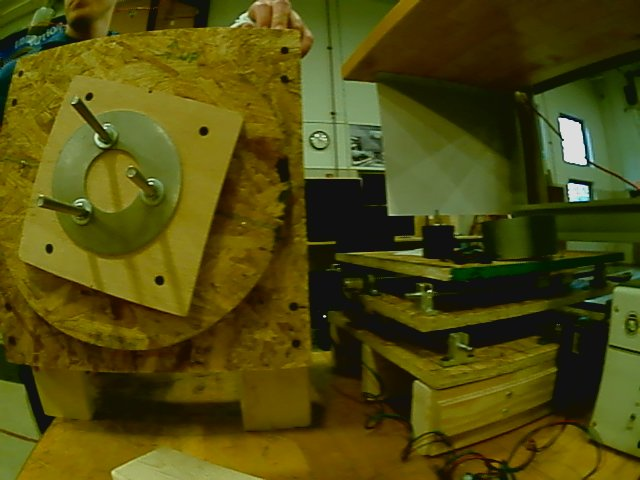bolt: (92, 121, 121, 151), (138, 177, 166, 207), (71, 197, 94, 227)
